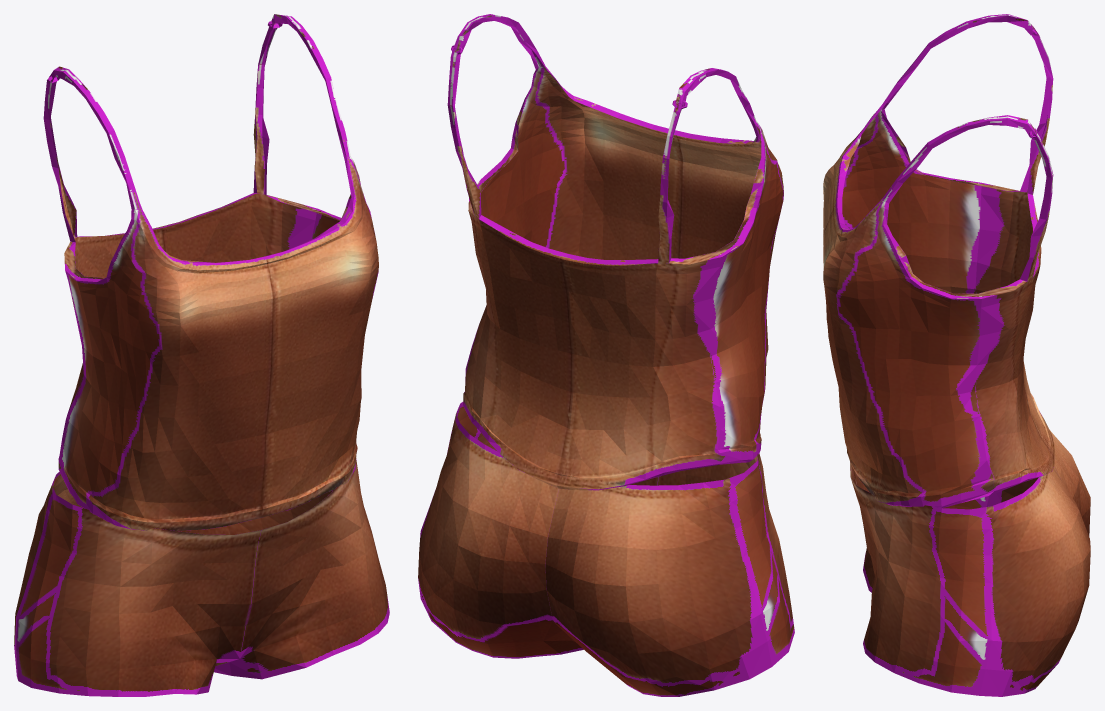
The picture shows the model from 3 angles, left to right: view 1: azimuth 30°, elevation 25°; view 2: azimuth 150°, elevation 25°; view 3: azimuth 270°, elevation 25°; orthographic projection. The views are drawn at different scales.
Size of the model in its own units: 0.606 by 1.01 by 0.4235.
1 material, 1 textured.
